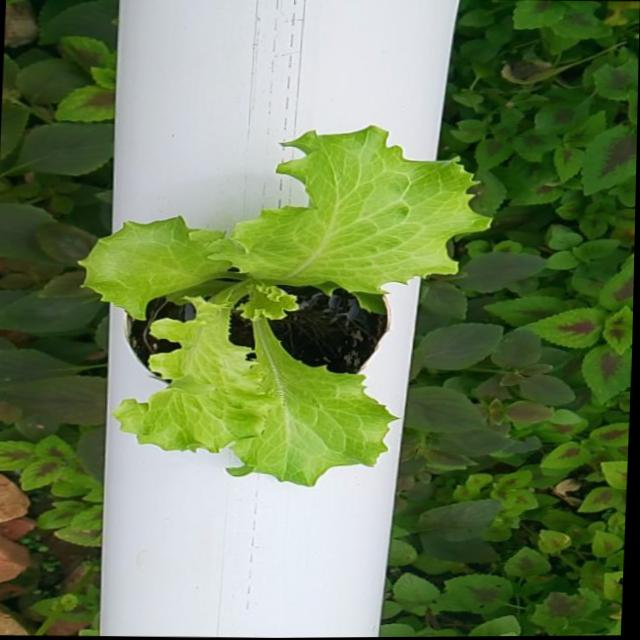Baby: (80, 126, 490, 486)
